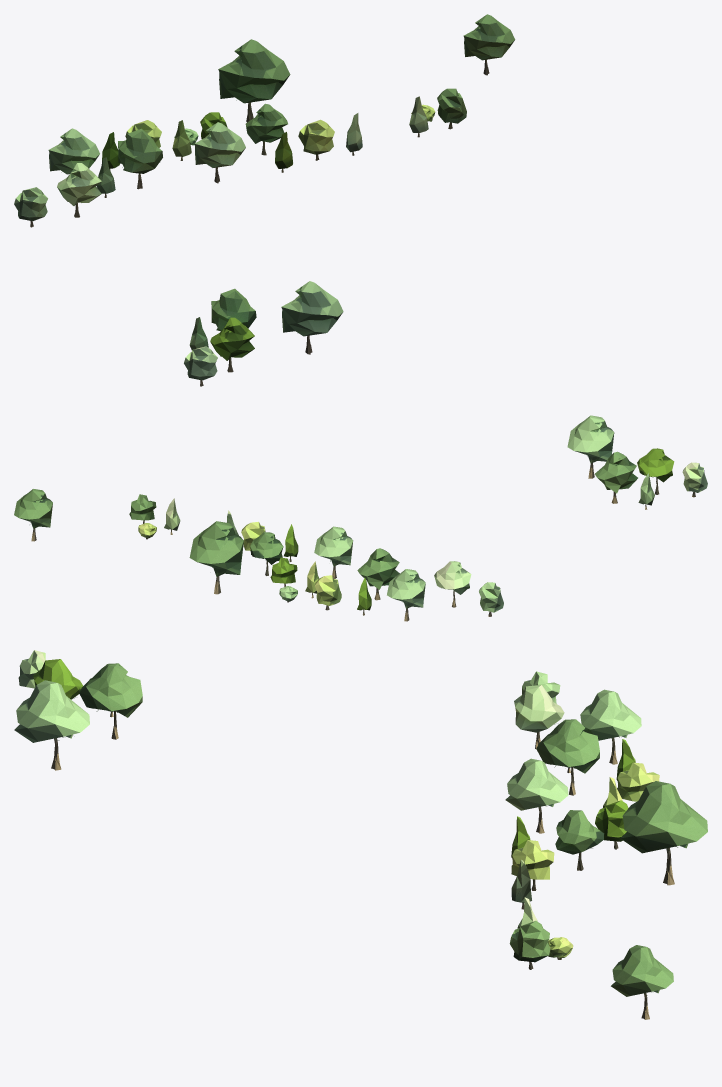
The model's file is Alberi-low.glb.
3 views of the same model, one above another, from view 1: azimuth 30°, elevation 25°; view 2: azimuth 150°, elevation 25°; view 3: azimuth 270°, elevation 25° (orthographic). The views are drawn at different scales.
Visible parts, largest first — view 1: LOW_POLY_Tree_2_005; view 2: LOW_POLY_Tree_2_005; view 3: LOW_POLY_Tree_2_005.
Boxes of the visible parts, x1=… form: LOW_POLY_Tree_2_005: x1=14, y1=14, x2=515, y2=386; LOW_POLY_Tree_2_005: x1=14, y1=415, x2=707, y2=621; LOW_POLY_Tree_2_005: x1=14, y1=650, x2=707, y2=1019.
Bounding box in the file's own units: 118 × 14.18 × 88.76.
Materials: 6 (6 with a texture image).
